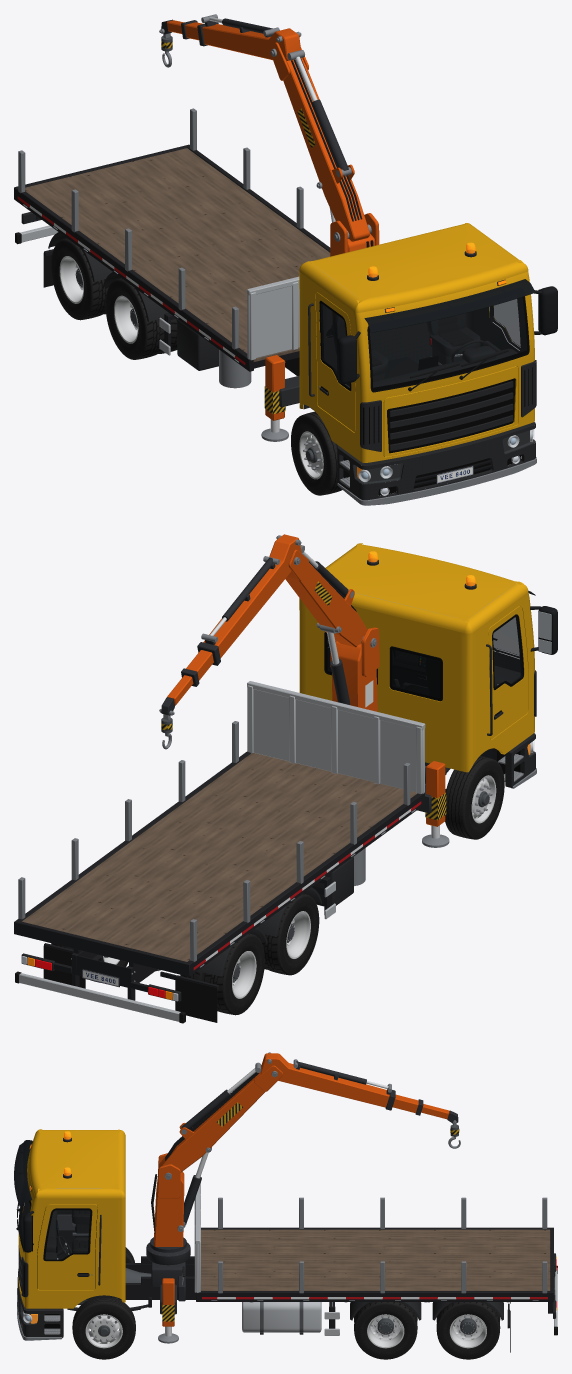
The model's file is crane-truck.glb.
3 renders of one model, top to bottom at view 1: azimuth 30°, elevation 25°; view 2: azimuth 150°, elevation 25°; view 3: azimuth 270°, elevation 25°, orthographic. The views are drawn at different scales.
Visible parts, largest first — view 1: Body, Boom_1, Wheel_2_Right, Wheel_3_Right, Wheel_1_Right, Boom_2, Stabiliser_Right, Crane_Column, Boom_Extension; view 2: Body, Boom_1, Wheel_1_Right, Boom_2, Crane_Column, Wheel_2_Right, Wheel_3_Right, Stabiliser_Right, Boom_Extension; view 3: Body, Boom_1, Crane_Column, Wheel_1_Left, Wheel_3_Left, Wheel_2_Left, Boom_2, Stabiliser_Left, Boom_Extension.
Part boxes in pixels (x1,y1,x2,y2): Body: (14, 108, 557, 505); Boom_1: (269, 42, 369, 241); Wheel_2_Right: (105, 278, 177, 359); Wheel_3_Right: (51, 238, 109, 320); Wheel_1_Right: (291, 411, 343, 495); Boom_2: (197, 14, 301, 60); Stabiliser_Right: (261, 355, 288, 441); Crane_Column: (330, 208, 379, 335); Boom_Extension: (159, 19, 203, 40); Body: (14, 543, 557, 1023); Boom_1: (285, 545, 367, 647); Wheel_1_Right: (445, 755, 504, 839); Boom_2: (197, 534, 301, 665); Crane_Column: (320, 624, 379, 711); Wheel_2_Right: (261, 893, 319, 975); Wheel_3_Right: (180, 933, 264, 1015); Stabiliser_Right: (422, 761, 449, 847); Boom_Extension: (159, 650, 213, 715); Body: (14, 1129, 557, 1352); Boom_1: (158, 1062, 282, 1172); Crane_Column: (150, 1147, 211, 1252); Wheel_1_Left: (72, 1297, 135, 1359); Wheel_3_Left: (436, 1302, 500, 1359); Wheel_2_Left: (354, 1302, 417, 1359); Boom_2: (260, 1052, 395, 1110); Stabiliser_Left: (158, 1278, 178, 1343); Boom_Extension: (392, 1094, 458, 1124).
Bounding box in the file's own units: 3.12 × 4.91 × 8.89.
Materials: 67 (15 with a texture image).
